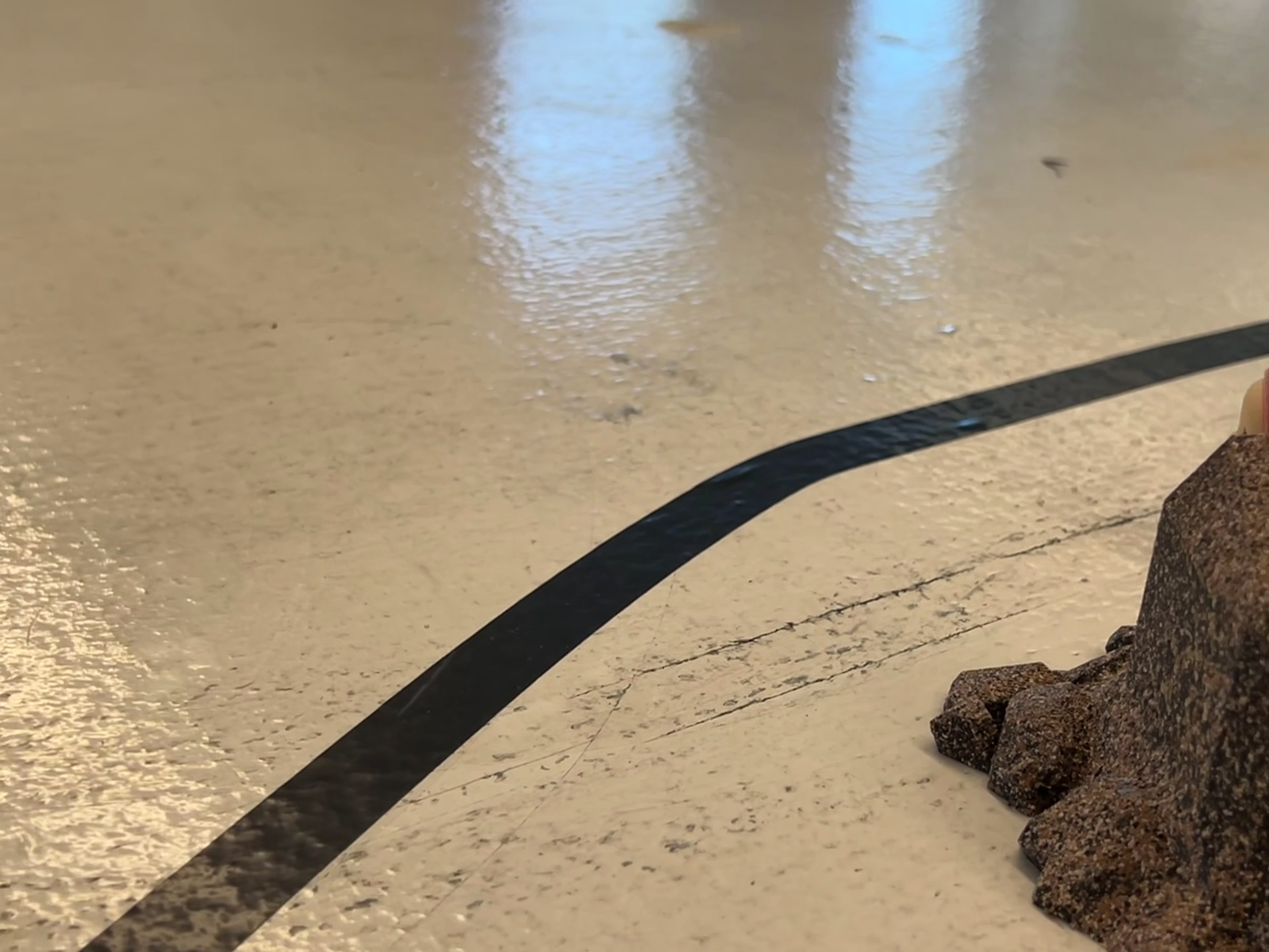teletubby: (1236, 370, 1268, 434)
